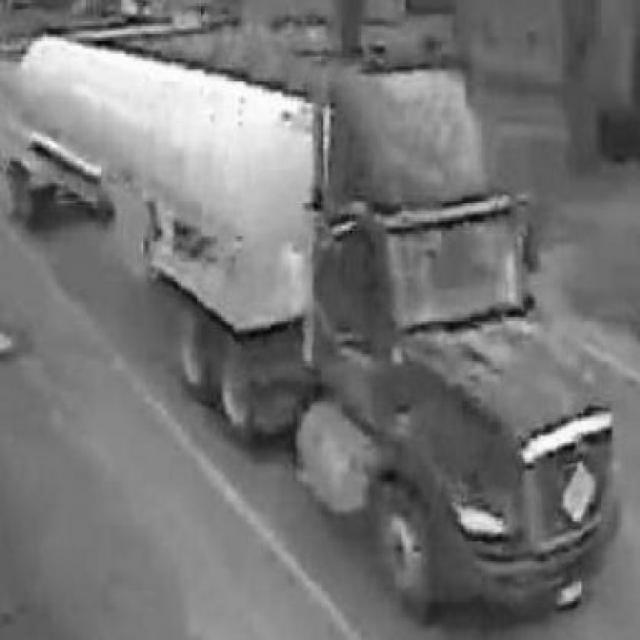Tractor Trailer: (0, 38, 625, 627)
